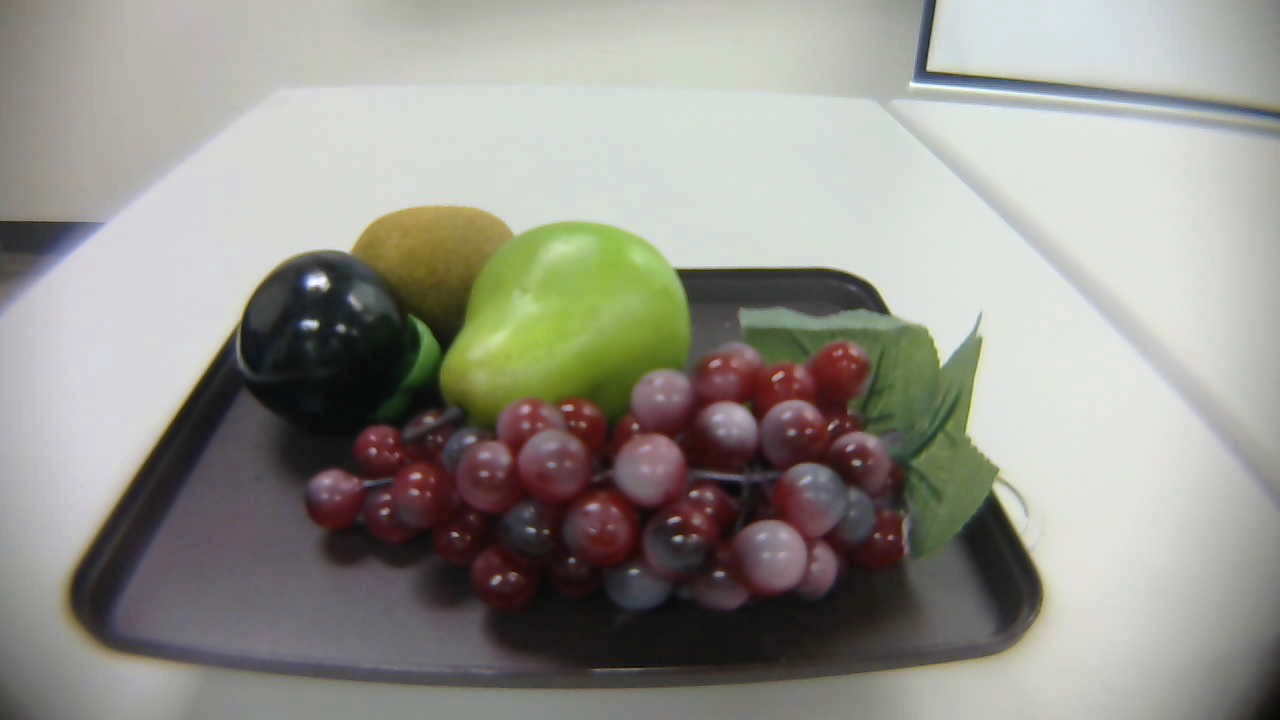grape: (292, 298, 1043, 636)
green pear: (413, 223, 693, 443)
kiwi fruit: (338, 206, 530, 333)
mangosteen: (215, 248, 445, 443)
